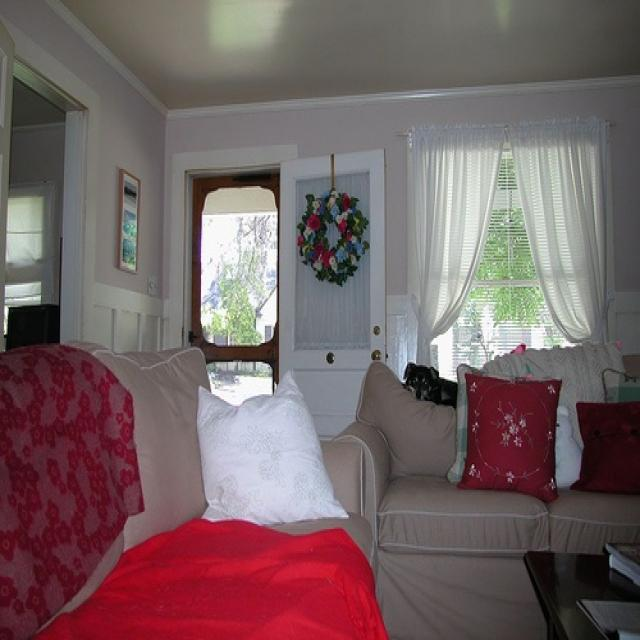sofa: (0, 346, 378, 638), (334, 358, 639, 548)
